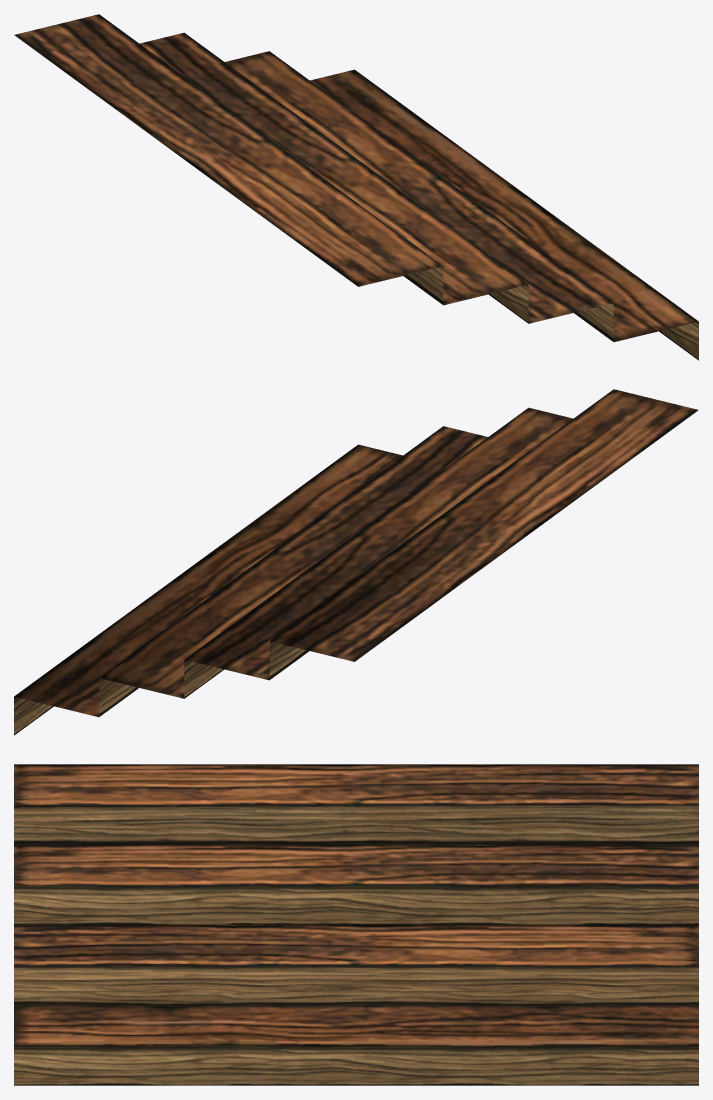
The model's file is LAKETOWN_EXTERIOR_PS_LT_STEP_12.fbx.
3 renders of one model, top to bottom at view 1: azimuth 30°, elevation 25°; view 2: azimuth 150°, elevation 25°; view 3: azimuth 270°, elevation 25°, orthographic.
Parts seen in each view (by area): view 1: LAKETOWN_EXTERIOR_PS_LT_STEP_12; view 2: LAKETOWN_EXTERIOR_PS_LT_STEP_12; view 3: LAKETOWN_EXTERIOR_PS_LT_STEP_12.
Part boxes in pixels (x1,y1,x2,y2): LAKETOWN_EXTERIOR_PS_LT_STEP_12: [14, 14, 698, 360]; LAKETOWN_EXTERIOR_PS_LT_STEP_12: [14, 389, 698, 735]; LAKETOWN_EXTERIOR_PS_LT_STEP_12: [14, 764, 698, 1085].
Bounding box in the file's own units: 20000 × 8804 × 35004.
2 materials, 2 textured.
